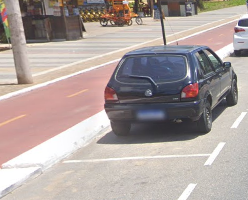car: (103, 43, 240, 138)
